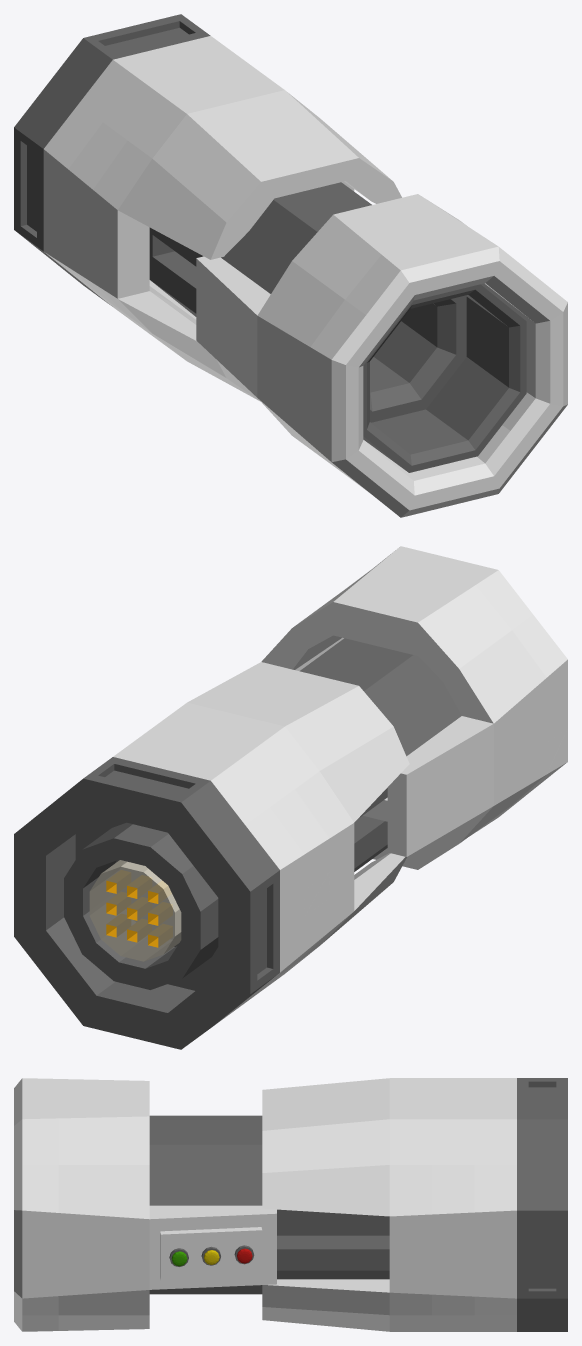
Rendered from RocketLauncher.fbx.
3 views of the same model, one above another, from view 1: azimuth 30°, elevation 25°; view 2: azimuth 150°, elevation 25°; view 3: azimuth 270°, elevation 25° (orthographic). The views are drawn at different scales.
Visible parts, largest first — view 1: Launcher Back, Launcher Front, Inner Barrel; view 2: Launcher Back, Launcher Front, Inner Barrel; view 3: Launcher Back, Launcher Front, Inner Barrel, Ammo Panel.
Boxes of the visible parts, box(x1,y1,x2,y2) form: Launcher Back: box(14, 14, 401, 401); Launcher Front: box(196, 194, 567, 517); Inner Barrel: box(149, 182, 526, 472); Launcher Back: box(14, 662, 409, 1049); Launcher Front: box(261, 546, 567, 869); Inner Barrel: box(300, 638, 461, 871); Launcher Back: box(262, 1078, 567, 1331); Launcher Front: box(14, 1078, 276, 1331); Inner Barrel: box(149, 1115, 389, 1294); Ammo Panel: box(160, 1227, 262, 1280).
Size of the model in its own units: 0.9721 by 0.9205 by 2.17.
